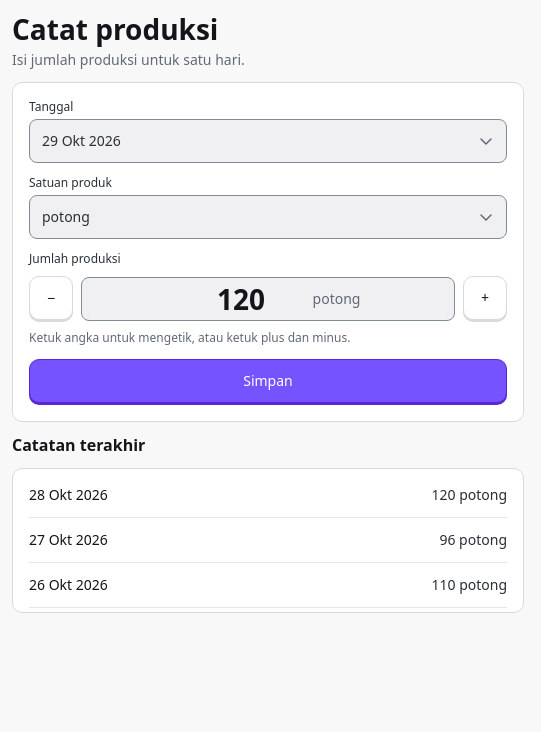
ProduksiPage › keeps the number and says so when saving failed
Click the button "Simpan".
click(268, 381)  # box [29, 359, 507, 403]
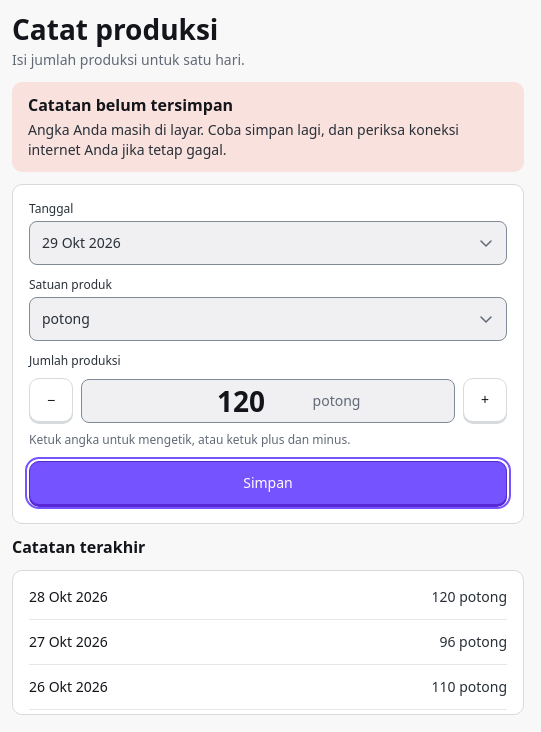
Expected: the field named "Angka" holds "120", [176, 384, 307, 418]
Expected: the text "Catatan belum tersimpan" is shown, [28, 94, 233, 116]
